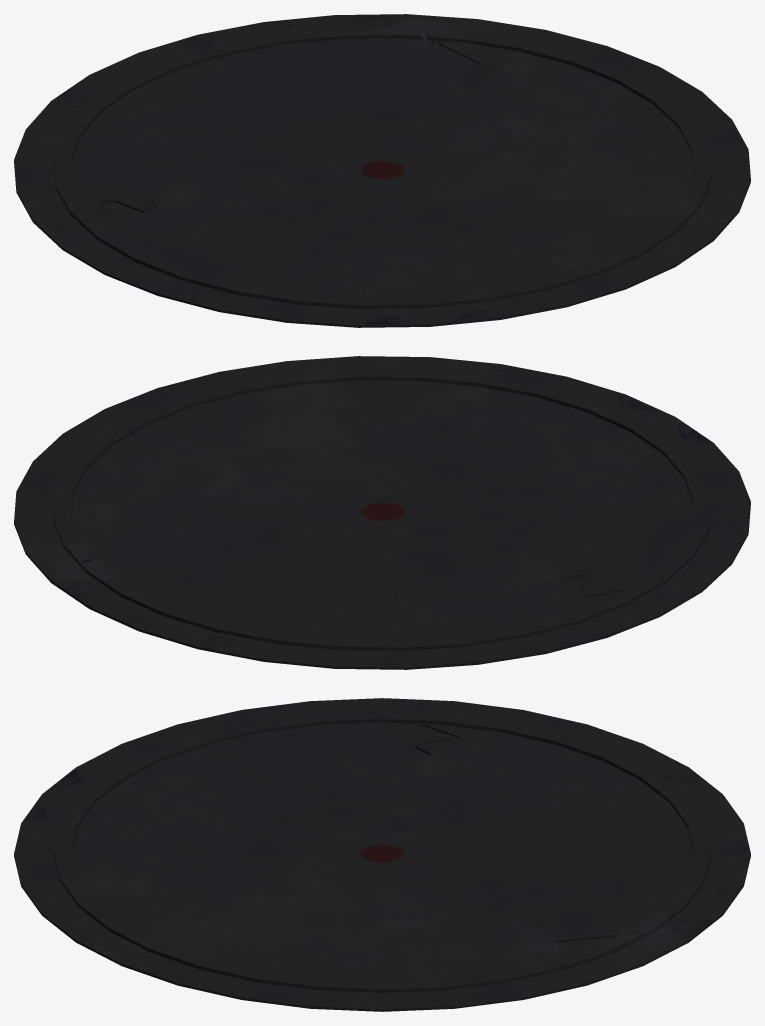
Rendered from circ.glb.
3 renders of one model, top to bottom at view 1: azimuth 30°, elevation 25°; view 2: azimuth 150°, elevation 25°; view 3: azimuth 270°, elevation 25°, orthographic.
Visible parts, largest first — view 1: Circle; view 2: Circle; view 3: Circle.
Part boxes in pixels (x1,y1,x2,y2): Circle: [14, 14, 750, 327]; Circle: [14, 356, 750, 669]; Circle: [14, 698, 750, 1011].
Bounding box in the file's own units: 63.4 × 0.6322 × 63.4.
Materials: 1 (1 with a texture image).
